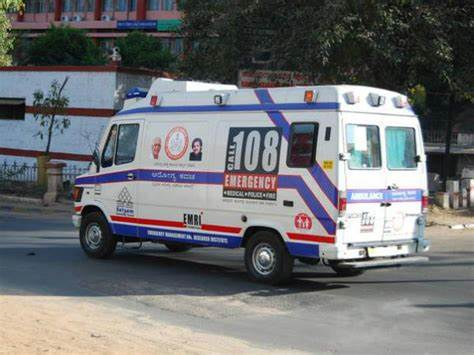ambulance: (84, 66, 444, 283)
